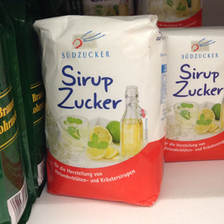tomato_sauce: (31, 13, 166, 207), (163, 27, 223, 163)
